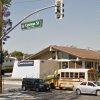buses: (52, 68, 98, 90)
